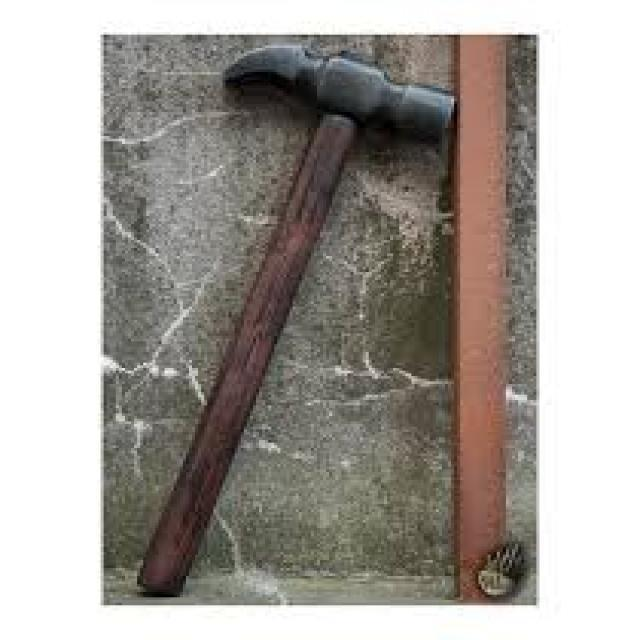hammer: (124, 39, 463, 602)
